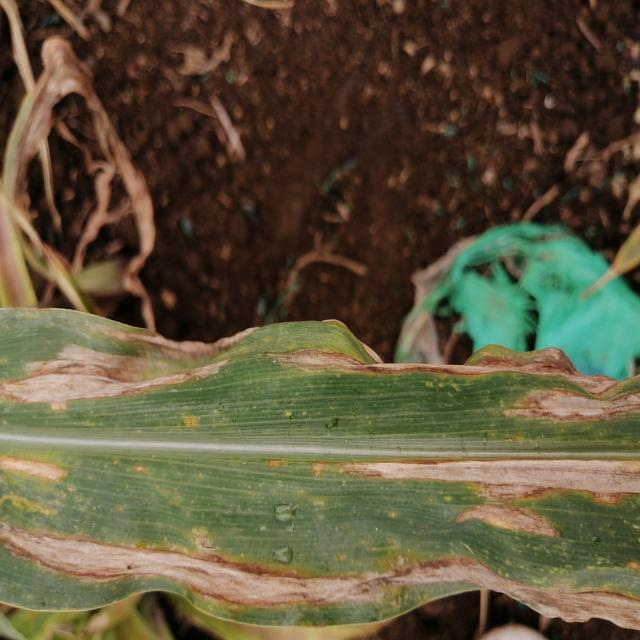Corn_Leaf_Blight: (4, 300, 640, 640)
